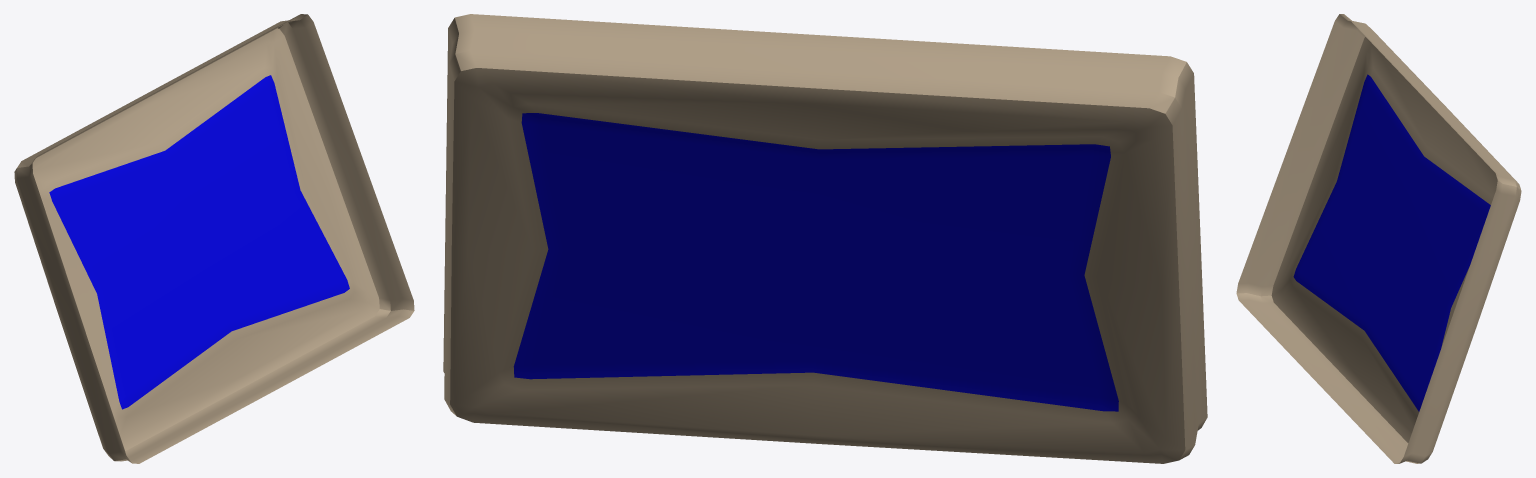
File: cacheinfo.fbx
3 renders of one model, left to right at view 1: azimuth 30°, elevation 25°; view 2: azimuth 150°, elevation 25°; view 3: azimuth 270°, elevation 25°, orthographic. The views are drawn at different scales.
Parts seen in each view (by area): view 1: polySurface430; view 2: polySurface430; view 3: polySurface430.
Boxes of the visible parts, left/top/right/bottom form: polySurface430: left=14, top=14, right=414, bottom=463; polySurface430: left=443, top=14, right=1207, bottom=463; polySurface430: left=1236, top=14, right=1521, bottom=463.
Size of the model in its own units: 41.5 by 26.78 by 25.59.
